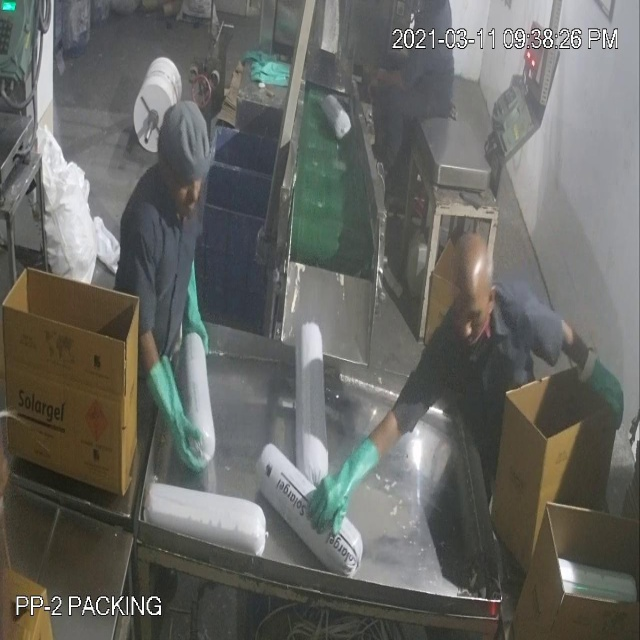Guantes: (300, 424, 380, 541), (146, 346, 214, 483), (574, 334, 634, 430), (182, 236, 214, 353)
Sin_guantes: (364, 52, 417, 101)
